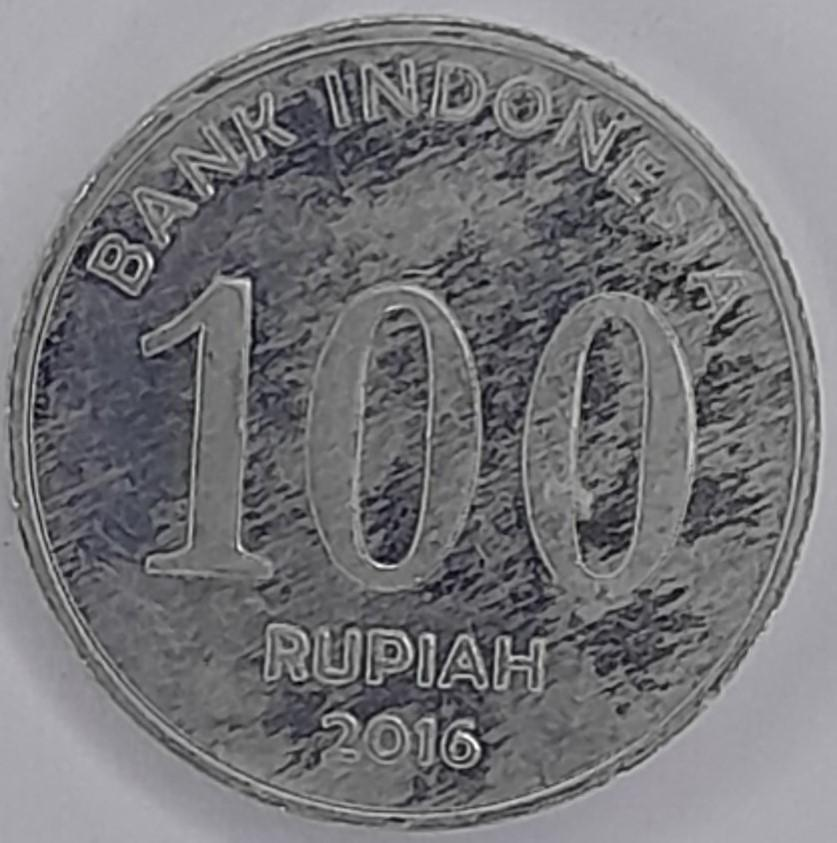coin_100_e2016: (1, 8, 828, 832)
